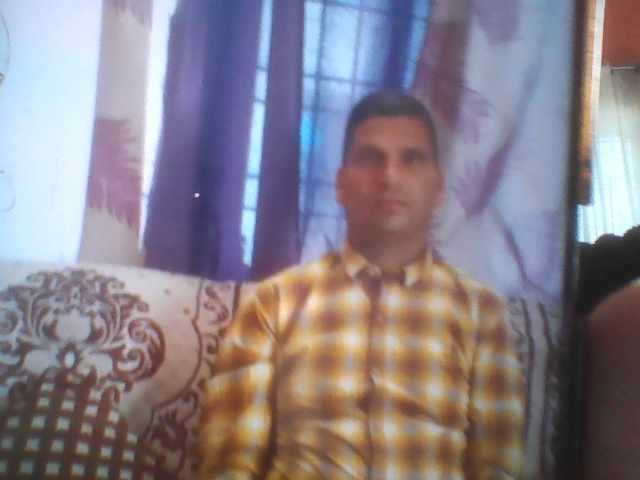fake: (331, 70, 457, 248)
